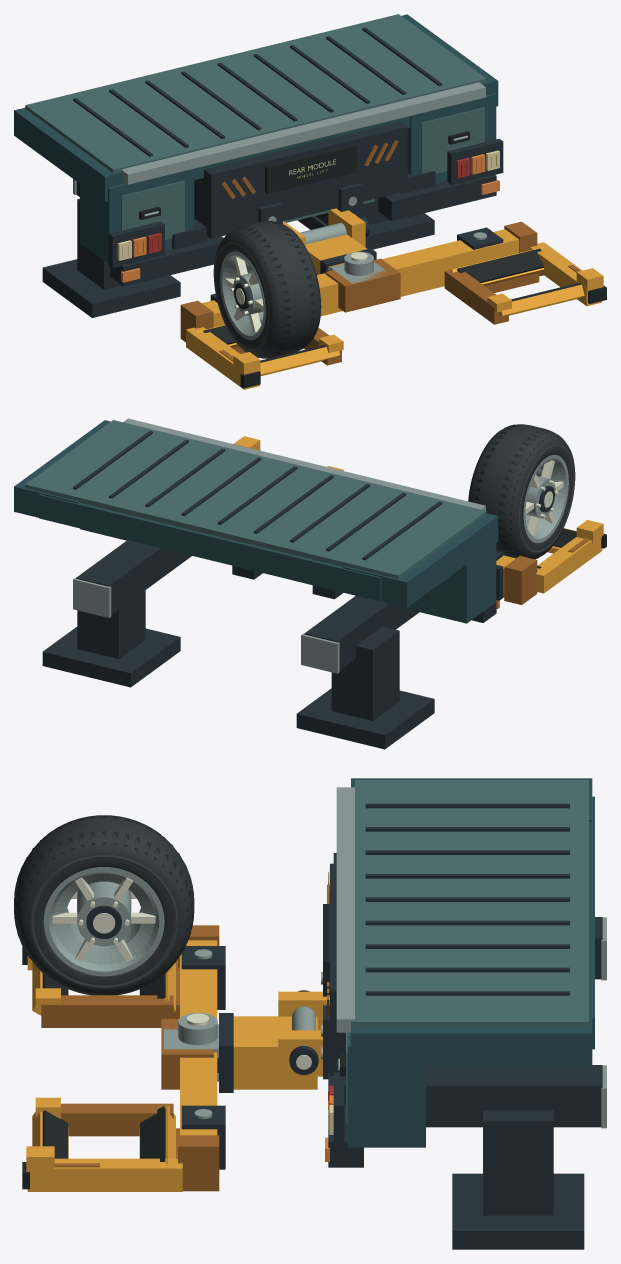
File: roadside-wheel-lift-tow-cradle.glb
The picture shows the model from 3 angles, top to bottom: view 1: azimuth 30°, elevation 25°; view 2: azimuth 150°, elevation 25°; view 3: azimuth 270°, elevation 25°; orthographic projection. The views are drawn at different scales.
Parts seen in each view (by area): view 1: Sectioned physical non-slip loading top, Central recessed rear tailboard on cutaway body, One original unbranded reference tire, Satin cut edge beneath shelf, Strong one-piece transverse yoke, Rear display floor foot -1, Side-body framed rear compartment -1, Side body short folded top -1, Blank warm rectangular display panel, Rear lower bumper cropped wing 1, Inset panel of cropped body 1, Inset panel of cropped body -1 (+31 smaller); view 2: Sectioned physical non-slip loading top, Continuous small deep-blue rear shelf, One original unbranded reference tire, Rear display tall foot support -1, Rear display floor foot 1, Rear display floor foot -1, Side body short folded top -1, Chassis rail cropped forward 1, Side-body framed rear compartment -1, Chassis rail cropped forward -1, Rear display tall foot support 1, Satin cut edge beneath shelf (+19 smaller); view 3: Sectioned physical non-slip loading top, One original unbranded reference tire, Side body short folded top 1, Chassis rail cropped forward 1, Rear display tall foot support 1, Rear display floor foot 1, Side-body framed rear compartment 1, One actual multi-lip metal rim dish, Outer longitudinal wheel-grid arm 1, Satin cut edge beneath shelf, True hollow outer telescoping collar, Strong one-piece transverse yoke (+33 smaller).
Part boxes in pixels (x1,y1,x2,y2): Sectioned physical non-slip loading top: (25,14,486,173); Central recessed rear tailboard on cutaway body: (194,121,407,238); One original unbranded reference tire: (213,221,321,358); Satin cut edge beneath shelf: (121,82,485,184); Strong one-piece transverse yoke: (202,229,519,327); Rear display floor foot -1: (42,259,180,317); Side-body framed rear compartment -1: (80,168,194,263); Side body short folded top -1: (14,107,125,201); Blank warm rectangular display panel: (265,144,356,193); Rear lower bumper cropped wing 1: (378,174,496,220); Inset panel of cropped body 1: (421,107,484,173); Inset panel of cropped body -1: (121,180,184,239); Sectioned physical non-slip loading top: (25,420,486,578); Continuous small deep-blue rear shelf: (39,494,381,601); One original unbranded reference tire: (468,424,575,559); Rear display tall foot support -1: (331,626,399,720); Rear display floor foot 1: (42,626,180,687); Rear display floor foot -1: (296,688,434,749); Side body short folded top -1: (343,513,498,607); Chassis rail cropped forward 1: (76,540,191,614); Side-body framed rear compartment -1: (404,543,496,623); Chassis rail cropped forward -1: (304,596,419,670); Rear display tall foot support 1: (77,590,145,658); Satin cut edge beneath shelf: (123,418,485,510); Sectioned physical non-slip loading top: (355,780,588,1026); One original unbranded reference tire: (14,815,194,995); Side body short folded top 1: (351,991,592,1066); Chassis rail cropped forward 1: (344,1065,602,1127); Rear display tall foot support 1: (483,1110,553,1215); Rear display floor foot 1: (452,1173,584,1249); Side-body framed rear compartment 1: (347,1032,425,1147); One actual multi-lip metal rim dish: (43,867,164,976); Outer longitudinal wheel-grid arm 1: (27,1158,182,1191); Satin cut edge beneath shelf: (336,787,354,1032); True hollow outer telescoping collar: (233,1016,317,1089); Strong one-piece transverse yoke: (180,940,217,1135).
Size of the model in its own units: 1.83 by 0.803 by 1.8.
